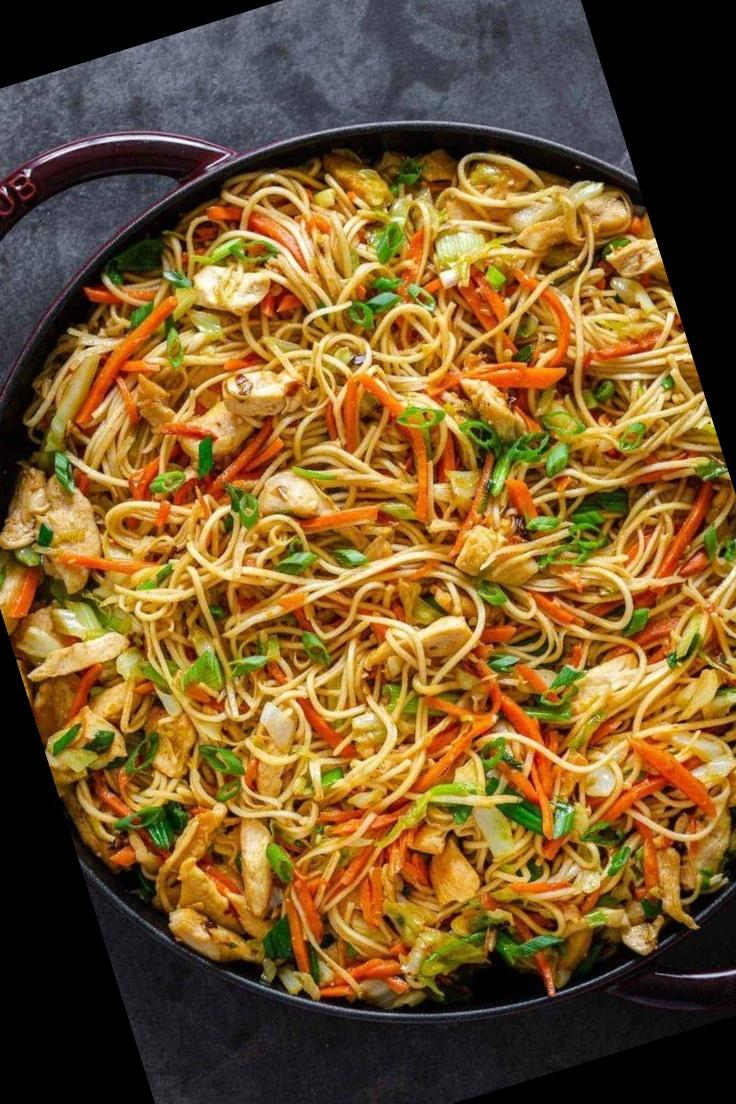pancit bihon: (0, 138, 735, 992)
